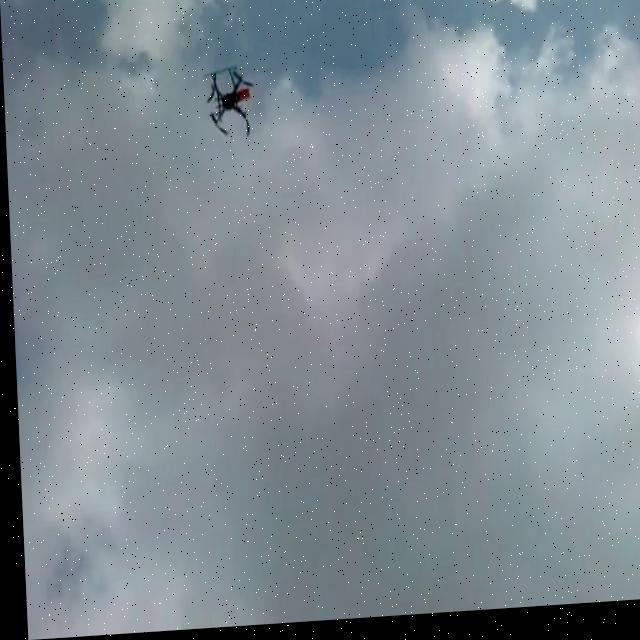drone: (202, 60, 257, 148)
